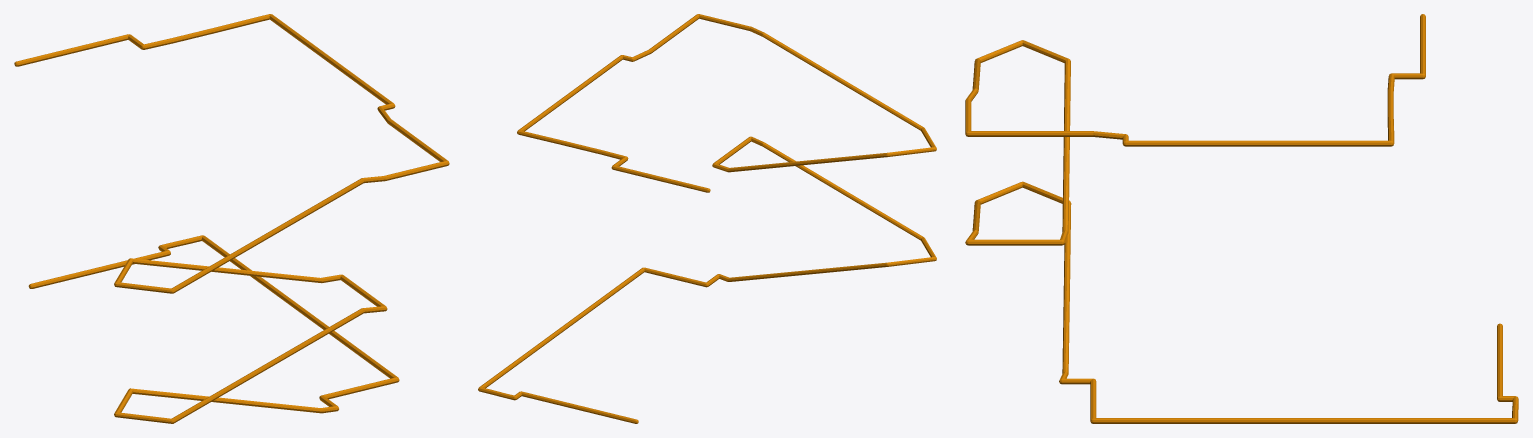
The picture shows the model from 3 angles, left to right: view 1: azimuth 30°, elevation 25°; view 2: azimuth 150°, elevation 25°; view 3: azimuth 270°, elevation 25°; orthographic projection. The views are drawn at different scales.
Bounding box in the file's own units: 1319 × 1020 × 1772.
